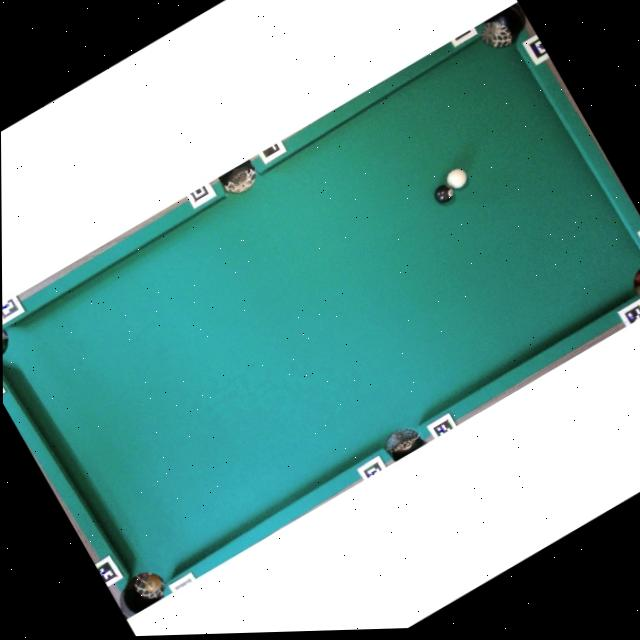cue ball: (442, 163, 473, 193)
other: (429, 179, 459, 208)
